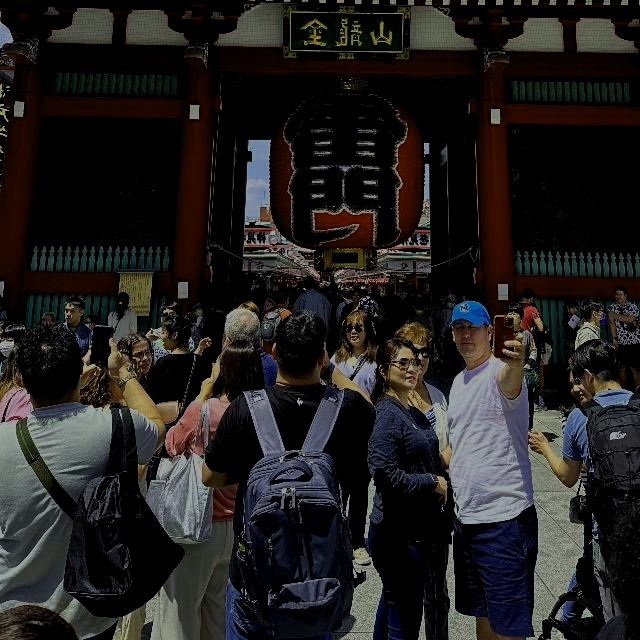Sin_Casco_Mascarrilla: (274, 310, 329, 375), (375, 340, 422, 396)
